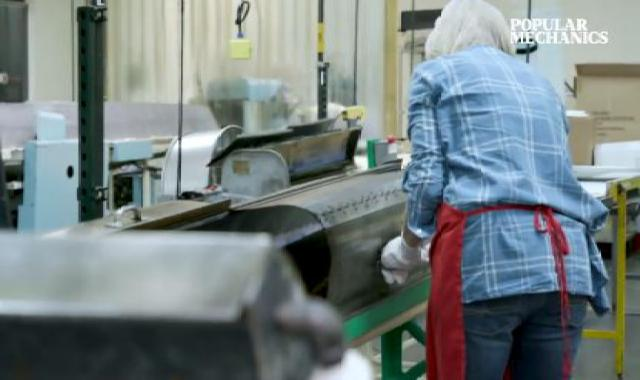hairnet: (418, 2, 518, 65)
